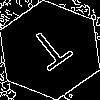T: (24, 25, 81, 79)
